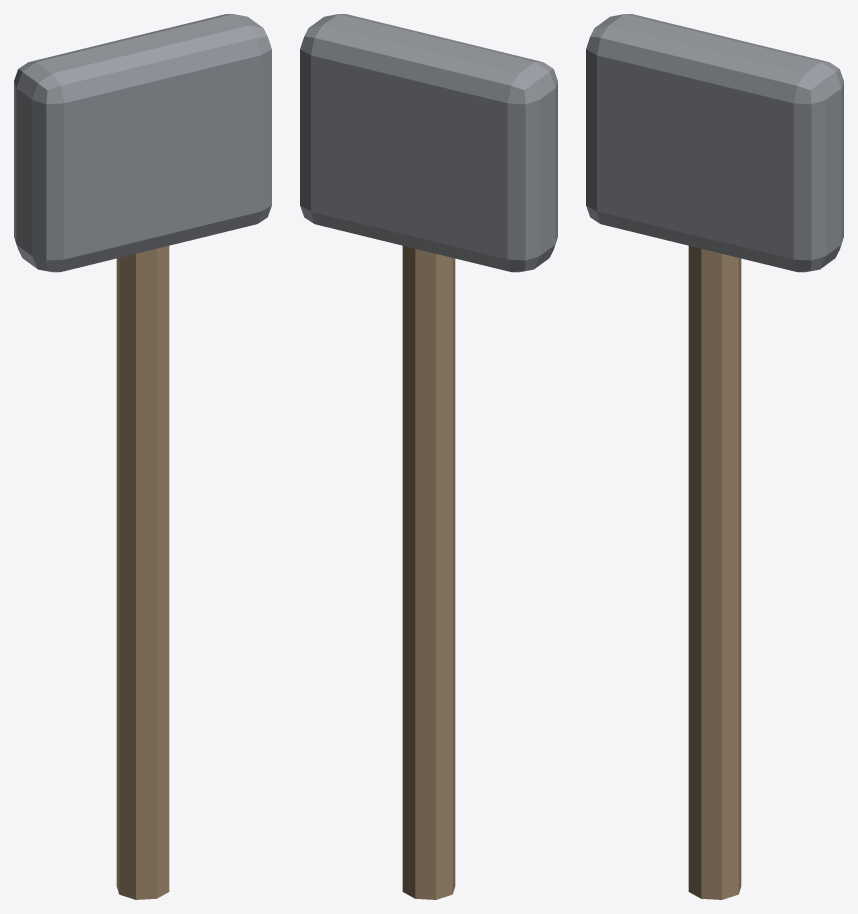
Rendered from wpn_axe.glb.
3 views of the same model, side by side, from view 1: azimuth 30°, elevation 25°; view 2: azimuth 150°, elevation 25°; view 3: azimuth 330°, elevation 25° (orthographic).
Parts seen in each view (by area): view 1: axe_head, axe_handle; view 2: axe_head, axe_handle; view 3: axe_head, axe_handle.
Part boxes in pixels (x1,y1,x2,y2): axe_head: (14,14,271,272); axe_handle: (116,246,169,899); axe_head: (300,14,557,272); axe_handle: (402,246,455,899); axe_head: (586,14,843,272); axe_handle: (688,246,741,899).
Bounding box in the file's own units: 0.35 × 1.19 × 0.1.
